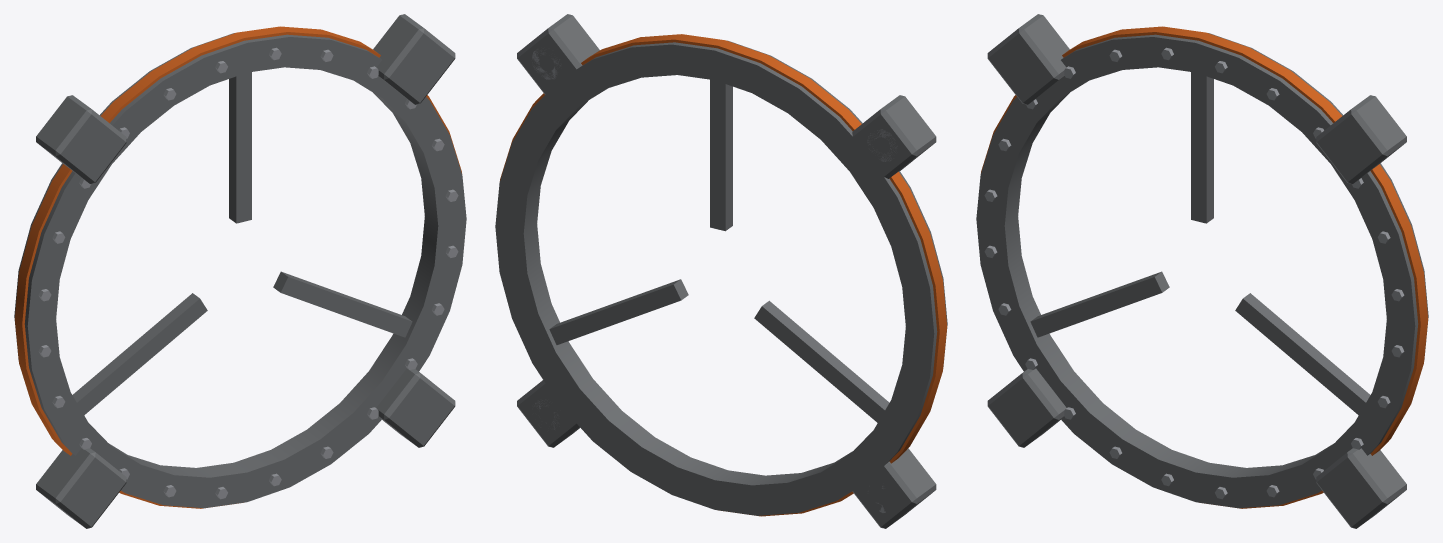
Rendered from u65m_flange.obj.
3 renders of one model, left to right at view 1: azimuth 30°, elevation 25°; view 2: azimuth 150°, elevation 25°; view 3: azimuth 330°, elevation 25°, orthographic.
Parts seen in each view (by area): view 1: u65m_flange; view 2: u65m_flange; view 3: u65m_flange.
Boxes of the visible parts, x1=… form: u65m_flange: x1=14, y1=14, x2=466, y2=528; u65m_flange: x1=495, y1=14, x2=947, y2=528; u65m_flange: x1=976, y1=14, x2=1428, y2=528.
Bounding box in the file's own units: 3.44 × 3.44 × 0.32.
